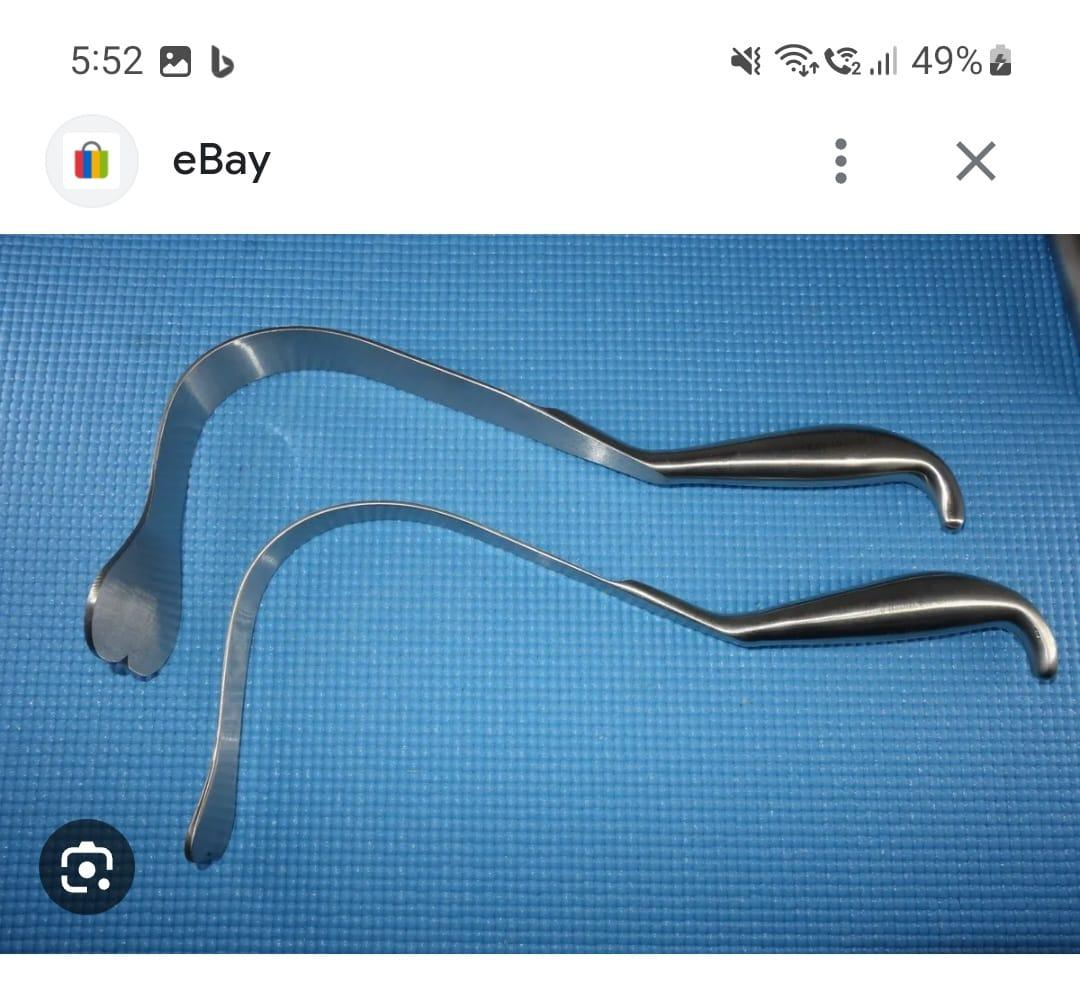Harrington Retractor: (66, 301, 981, 693)
